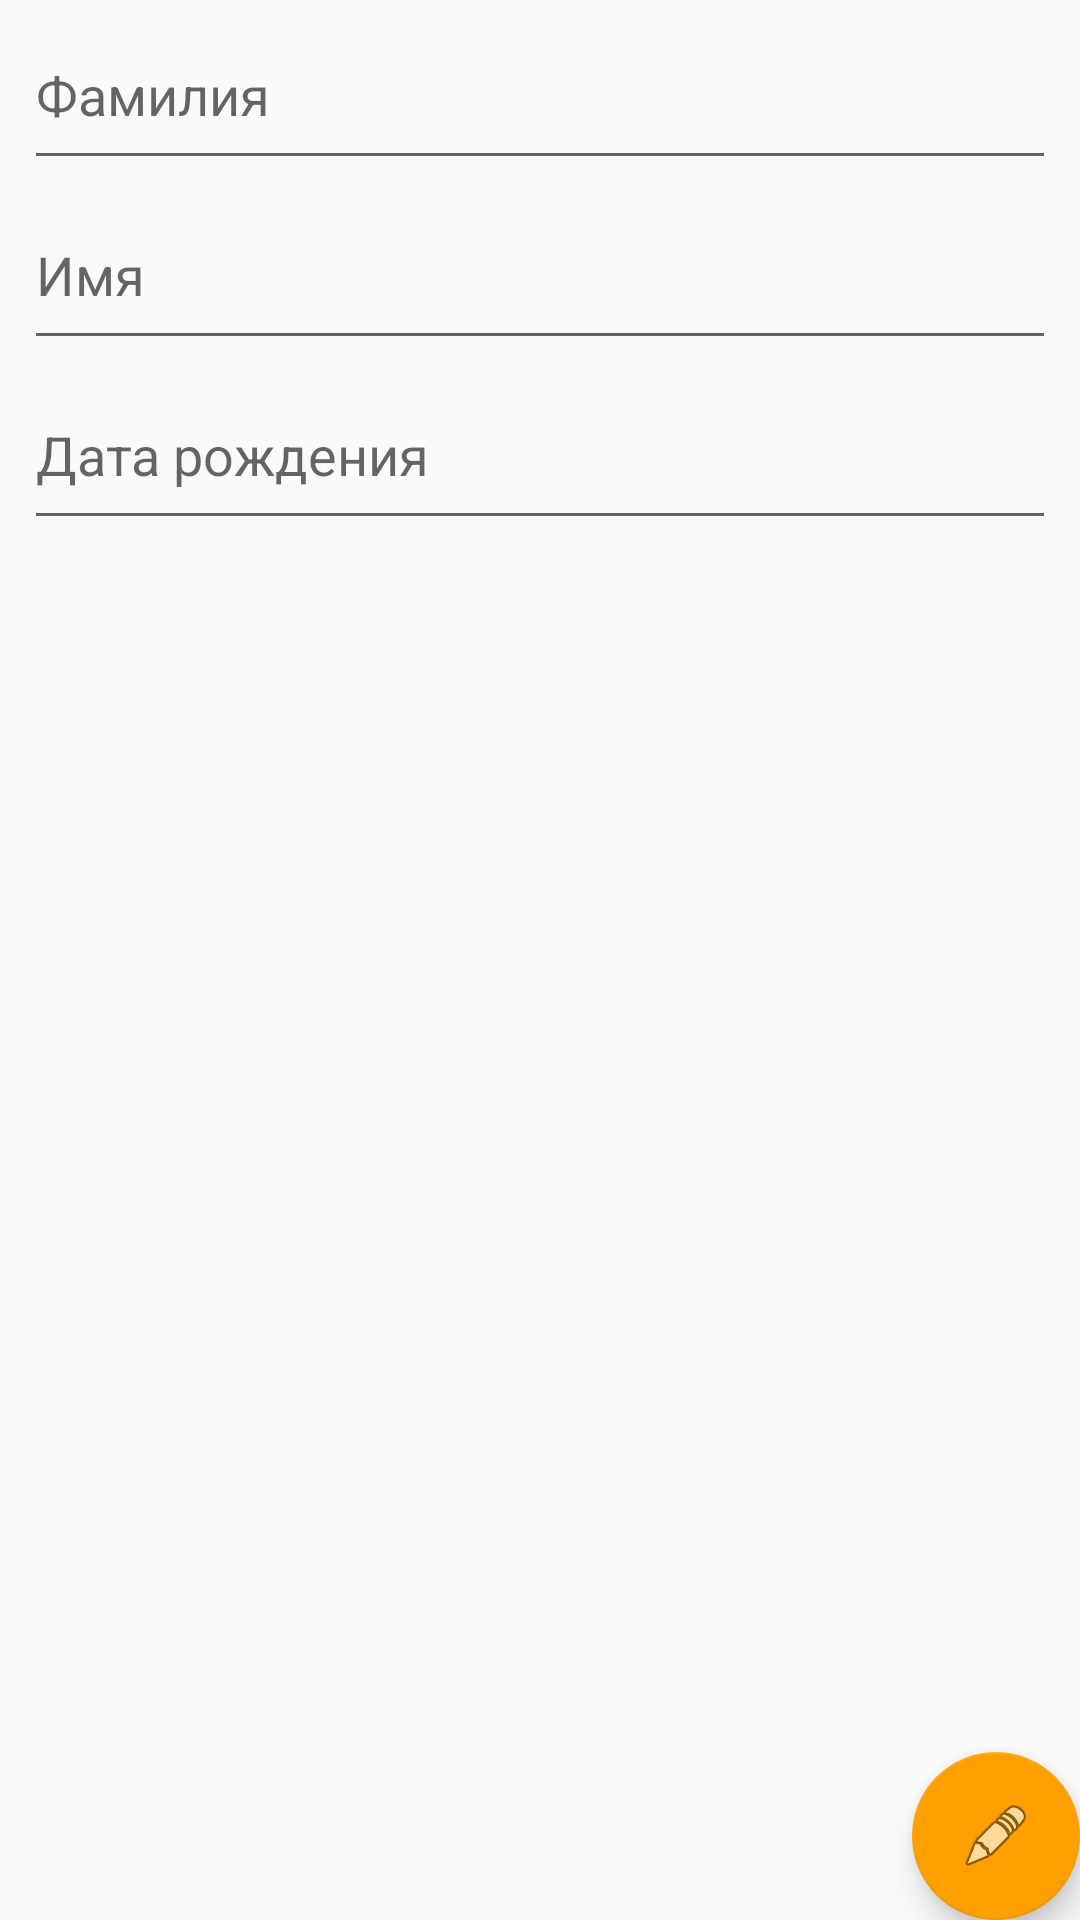

Where icons sit on this 1080*1920 app screen, as [left=x1, top=y1, right=x2, bottom=y2]:
edit: [left=912, top=1752, right=1080, bottom=1920]
